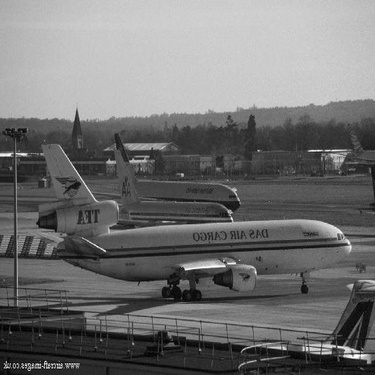airplane: (37, 143, 357, 297), (101, 128, 244, 214), (1, 100, 99, 191), (287, 269, 371, 372), (75, 184, 238, 235)
